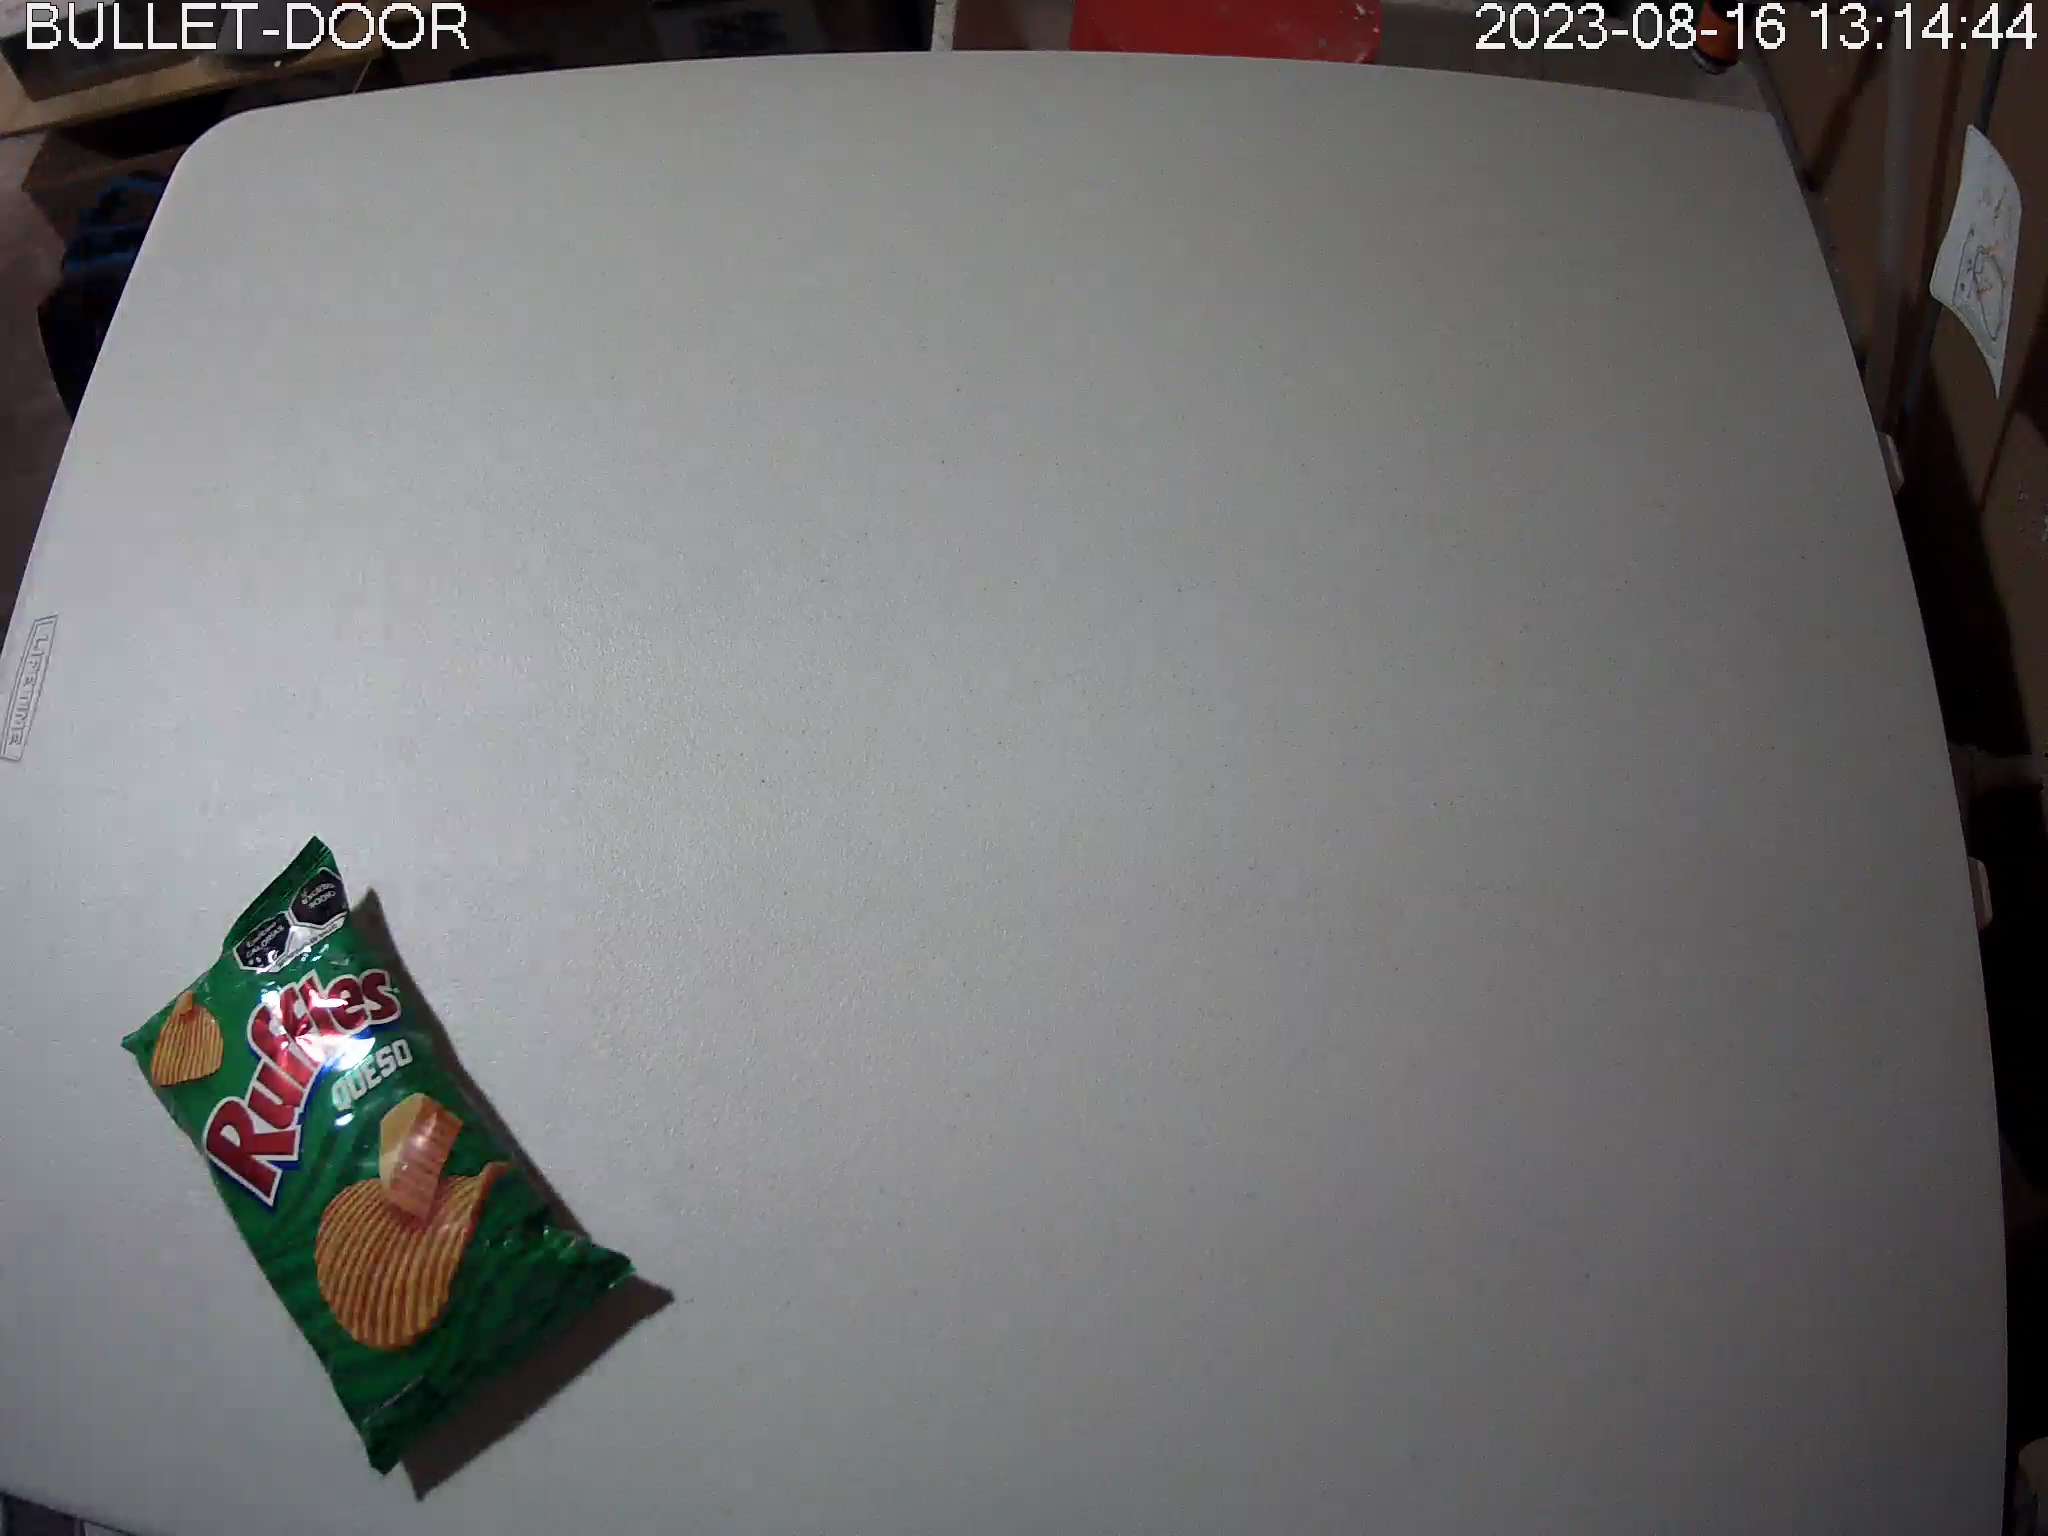RufflesQ_48_F: (119, 836, 635, 1475)
